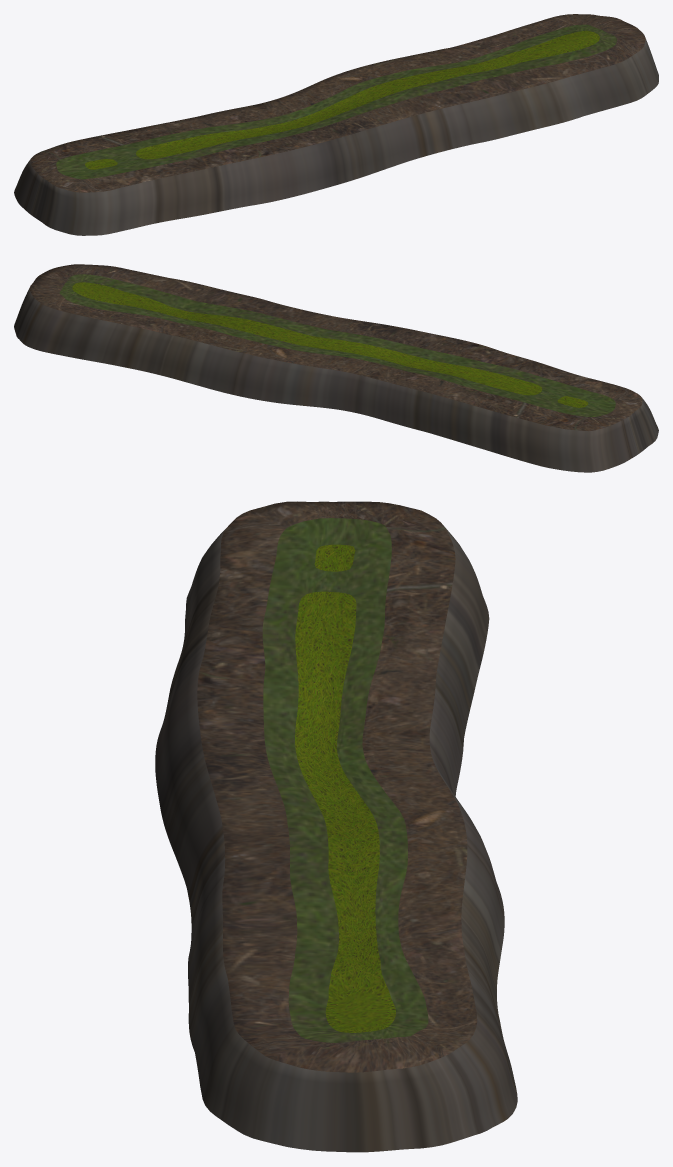
Rendered from fairway.obj.
3 renders of one model, top to bottom at view 1: azimuth 30°, elevation 25°; view 2: azimuth 150°, elevation 25°; view 3: azimuth 270°, elevation 25°, orthographic. The views are drawn at different scales.
Parts seen in each view (by area): view 1: Hole1_Grid.006; view 2: Hole1_Grid.006; view 3: Hole1_Grid.006.
Boxes of the visible parts, box(x1,y1,x2,y2) form: Hole1_Grid.006: box(14, 14, 658, 235); Hole1_Grid.006: box(14, 264, 658, 472); Hole1_Grid.006: box(155, 501, 517, 1152).
Bounding box in the file's own units: 212 × 12.4 × 54.88.
5 materials, 5 textured.
